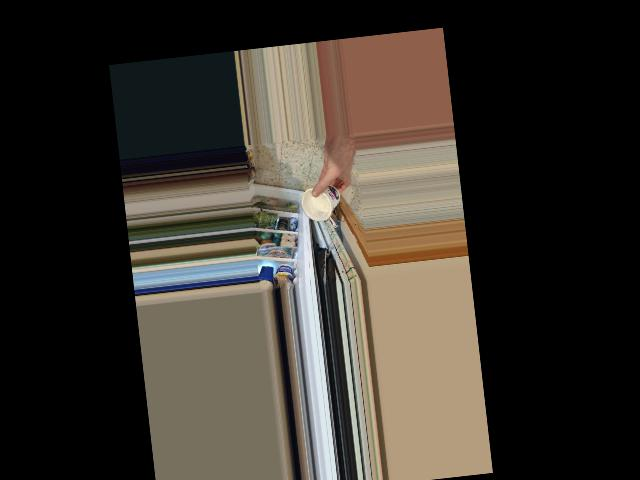cotage: (303, 181, 344, 221)
